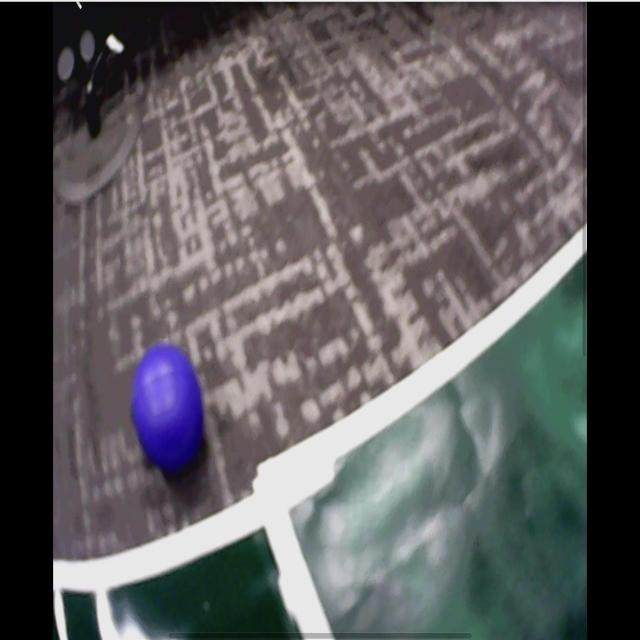ball: (131, 344, 206, 471)
